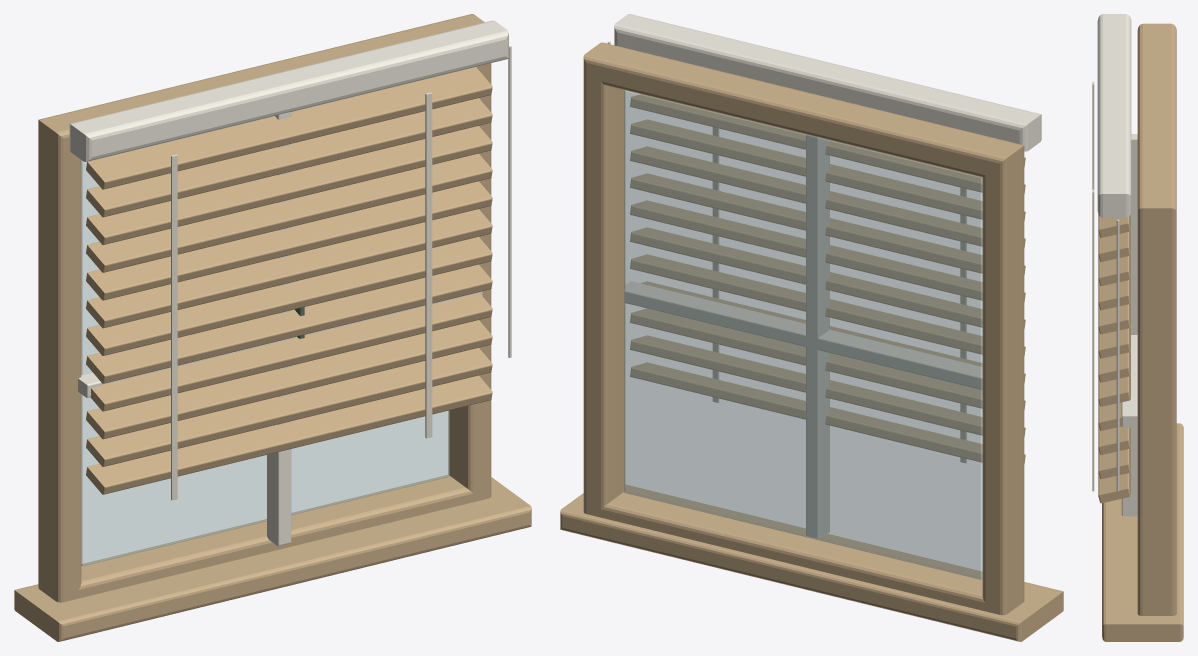
The model's file is blinds.glb.
3 views of the same model, side by side, from view 1: azimuth 30°, elevation 25°; view 2: azimuth 150°, elevation 25°; view 3: azimuth 270°, elevation 25° (orthographic). The views are drawn at different scales.
Visible parts, largest first — view 1: Timber blind slat (×12), Glass, Vertical frame (×2), Deep sill, Horizontal frame (×2), Blind cassette, Blind tape (×2), Mullion, Pull cord, Crossbar; view 2: Glass, Timber blind slat (×11), Vertical frame (×2), Horizontal frame (×2), Blind cassette, Deep sill, Mullion, Crossbar; view 3: Vertical frame, Timber blind slat (×12), Horizontal frame, Deep sill, Blind cassette, Mullion, Blind tape (×2), Pull cord, Crossbar.
Boxes of the visible parts, <box> form: Timber blind slat (×12): <box>86,67,492,494</box>; Glass: <box>81,160,449,566</box>; Vertical frame (×2): <box>38,63,491,602</box>; Deep sill: <box>14,477,531,641</box>; Horizontal frame (×2): <box>38,14,491,602</box>; Blind cassette: <box>69,20,508,161</box>; Blind tape (×2): <box>171,92,432,500</box>; Mullion: <box>267,112,291,546</box>; Pull cord: <box>508,46,511,357</box>; Crossbar: <box>78,291,482,397</box>; Glass: <box>624,90,982,579</box>; Timber blind slat (×11): <box>630,94,1025,463</box>; Vertical frame (×2): <box>583,57,1024,615</box>; Horizontal frame (×2): <box>583,42,1024,614</box>; Blind cassette: <box>614,14,1041,151</box>; Deep sill: <box>560,484,1063,641</box>; Mullion: <box>806,134,829,538</box>; Crossbar: <box>624,281,982,389</box>; Vertical frame: <box>1137,200,1176,615</box>; Timber blind slat (×12): <box>1098,214,1130,503</box>; Horizontal frame: <box>1137,23,1176,230</box>; Deep sill: <box>1102,423,1183,641</box>; Blind cassette: <box>1097,14,1131,217</box>; Mullion: <box>1121,134,1137,516</box>; Blind tape (×2): <box>1092,81,1094,491</box>; Pull cord: <box>1116,219,1119,490</box>; Crossbar: <box>1121,335,1137,427</box>.
Bounding box in the file's own units: 1.34 × 1.36 × 0.258.
